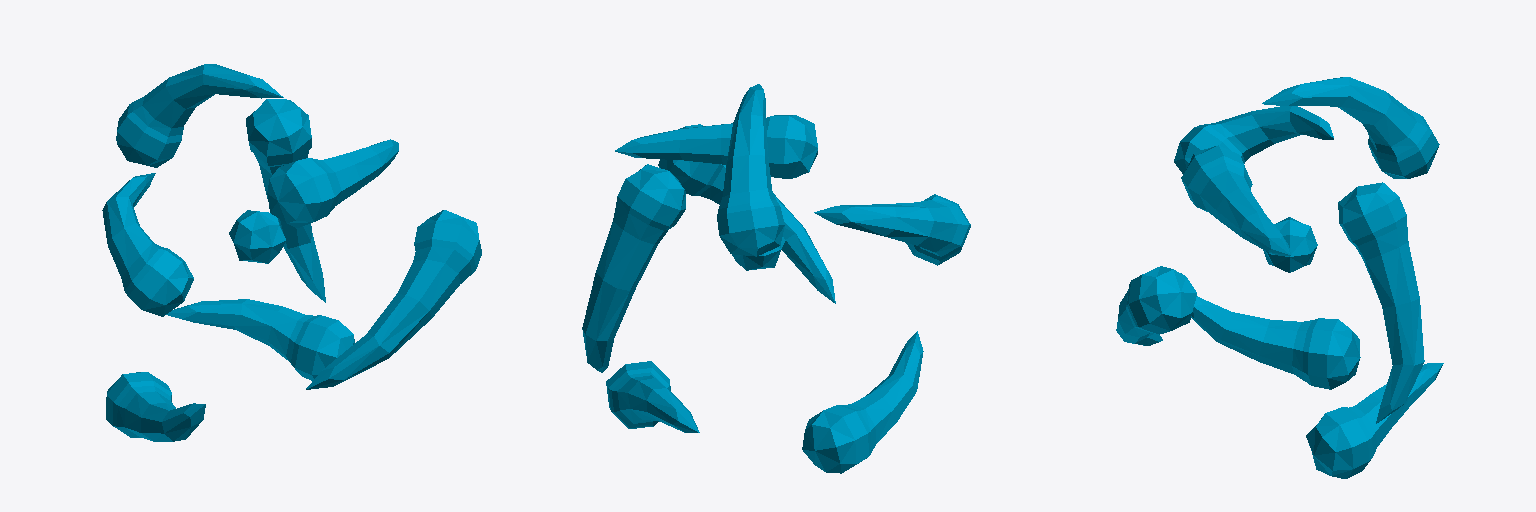
The model's file is energy-star-5.obj.
The picture shows the model from 3 angles: view 1: azimuth 30°, elevation 25°; view 2: azimuth 150°, elevation 25°; view 3: azimuth 270°, elevation 25°; orthographic projection.
Visible parts, largest first — view 1: EnergyStar; view 2: EnergyStar; view 3: EnergyStar.
Boxes of the visible parts, box(x1,y1,x2,y2) form: EnergyStar: box(102, 64, 481, 441); EnergyStar: box(582, 84, 970, 473); EnergyStar: box(1116, 77, 1443, 478).
Size of the model in its own units: 1.99 by 2.02 by 1.74.